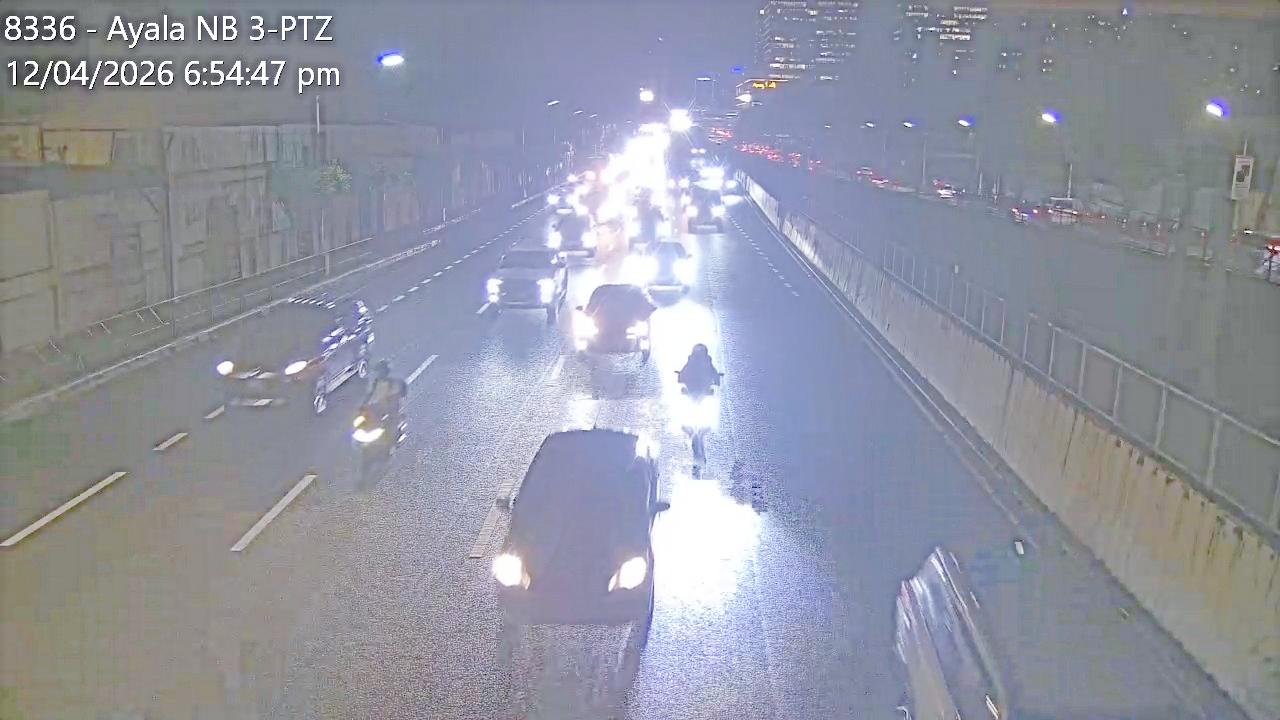Car: (872, 526, 1218, 720), (491, 427, 665, 631), (212, 294, 374, 418), (574, 282, 657, 356), (484, 244, 567, 317), (640, 237, 694, 297), (547, 211, 595, 263), (684, 180, 726, 231)
Motor: (353, 373, 409, 485), (673, 361, 718, 470)
Not Accident: (212, 288, 412, 496), (484, 211, 597, 320)
